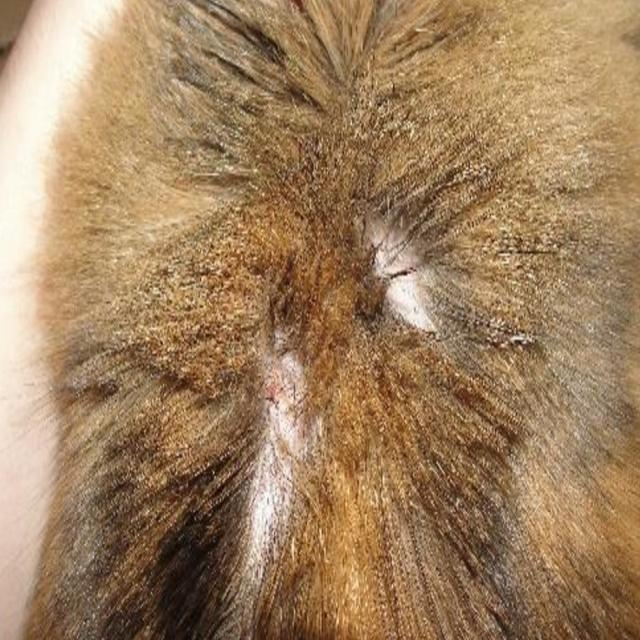di ung bo chet: (226, 330, 334, 579), (344, 204, 444, 349)
